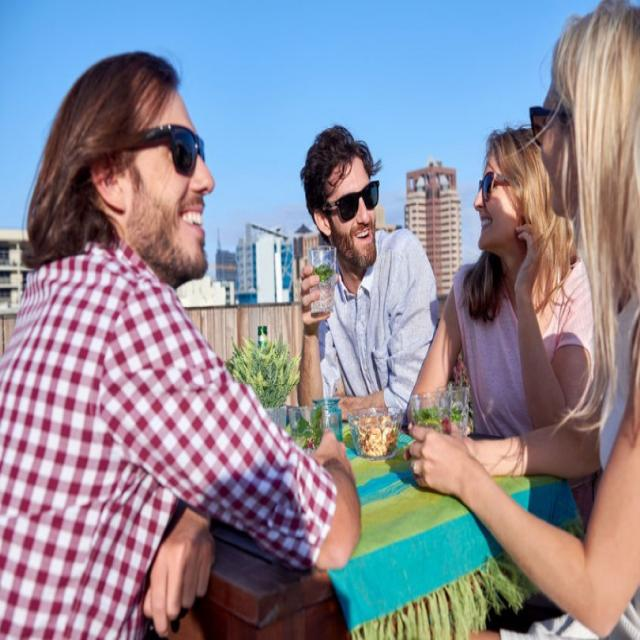body: (0, 41, 364, 639), (403, 124, 599, 440), (402, 121, 597, 438), (293, 117, 441, 433)
